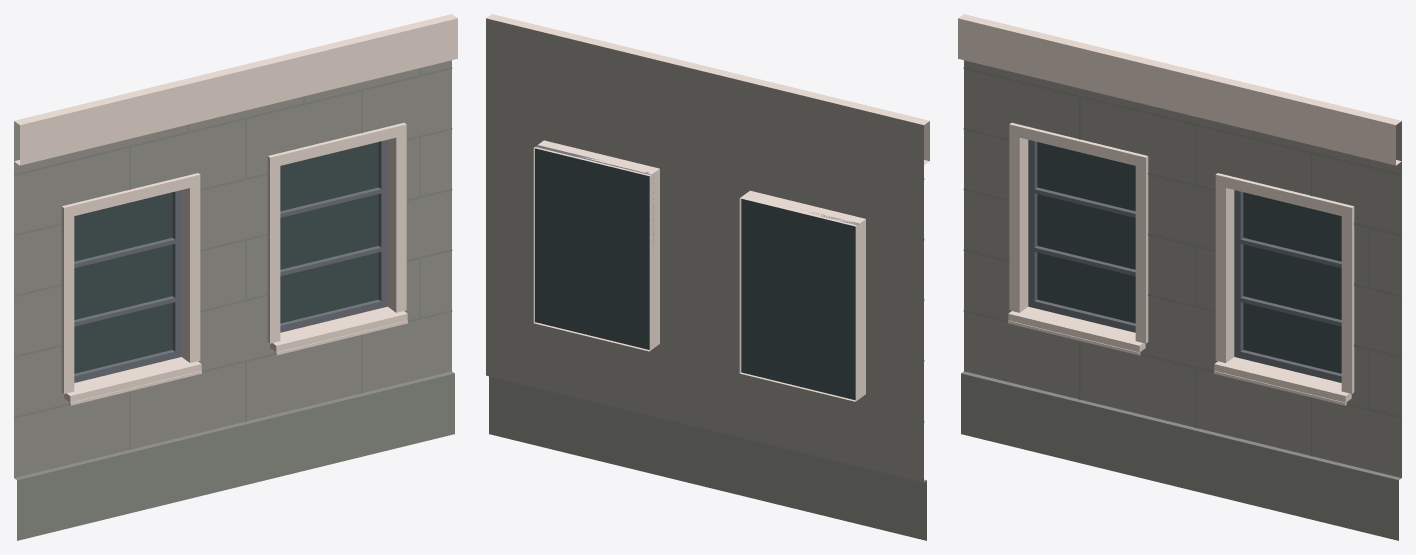
The model's file is base-w3_close.fbx.
The picture shows the model from 3 angles, left to right: view 1: azimuth 30°, elevation 25°; view 2: azimuth 150°, elevation 25°; view 3: azimuth 330°, elevation 25°; orthographic projection.
Visible parts, largest first — view 1: a2001/800/base-w3_close; view 2: a2001/800/base-w3_close; view 3: a2001/800/base-w3_close.
Boxes of the visible parts, box(x1,y1,x2,y2) form: a2001/800/base-w3_close: box(14, 14, 457, 540); a2001/800/base-w3_close: box(486, 14, 929, 540); a2001/800/base-w3_close: box(958, 14, 1401, 540).
Size of the model in its own units: 3.4 by 3.1 by 0.225.
